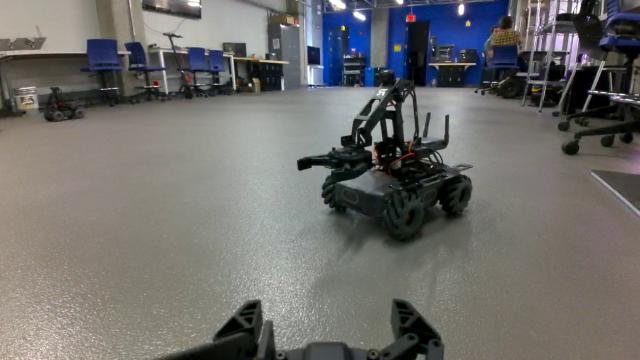robot: (293, 75, 474, 242)
